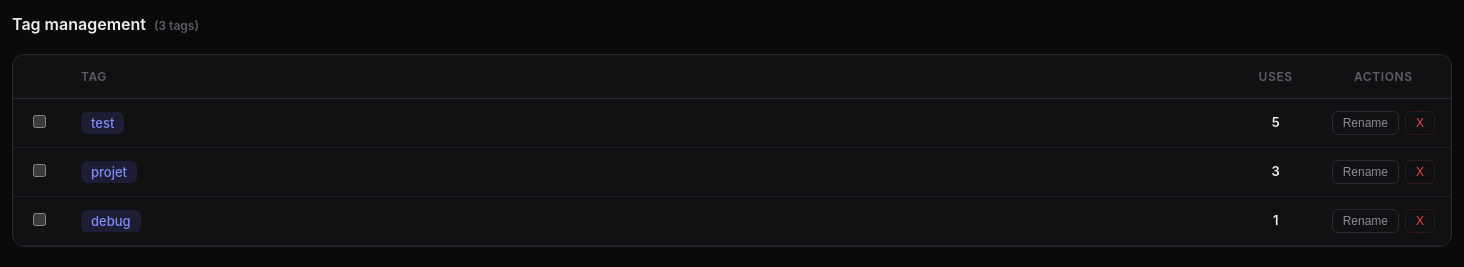
Test: Tags › affiche le bouton Fusionner quand au moins 2 tags sont selectionnes
The width and height of the screenshot is (1464, 267).
Expected: the text "test" is shown, [81,112,124,134]
Expected: the text "Merge" is not shown
Click the checkbox named "Selectionner test". click: (40, 121)
box: [33,115,46,128]
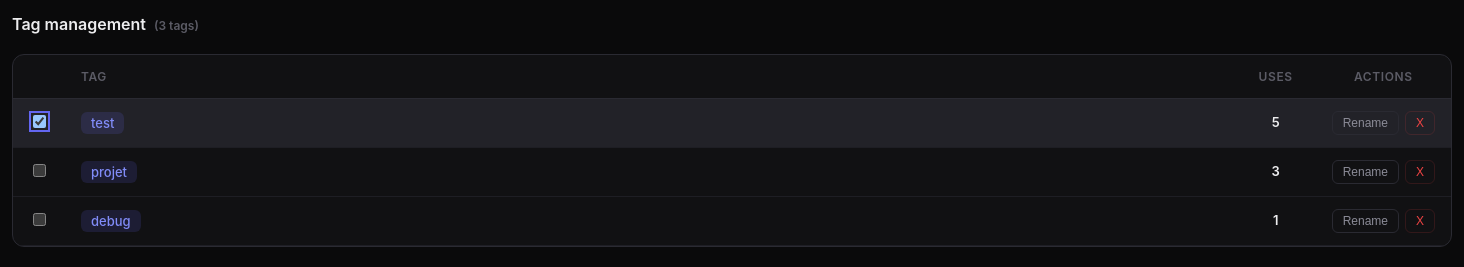
Click the checkbox named "Selectionner projet". click: (40, 170)
box: [33,164,46,177]
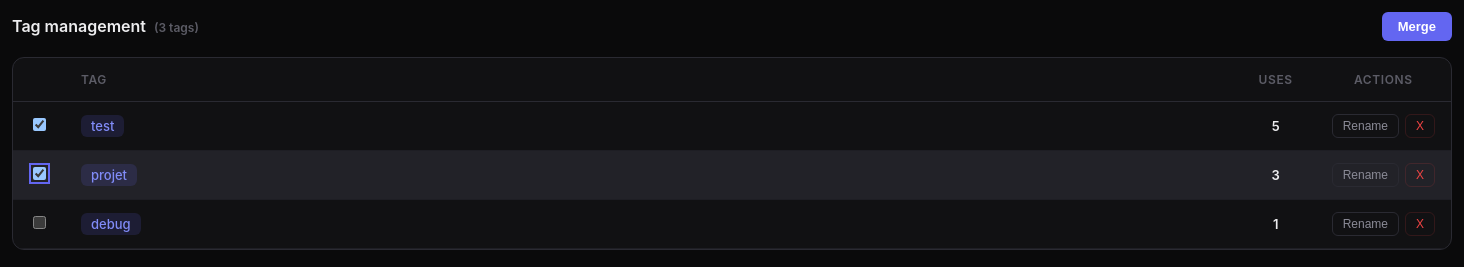
Expected: the button "Merge" is shown, [1382,12,1452,41]
